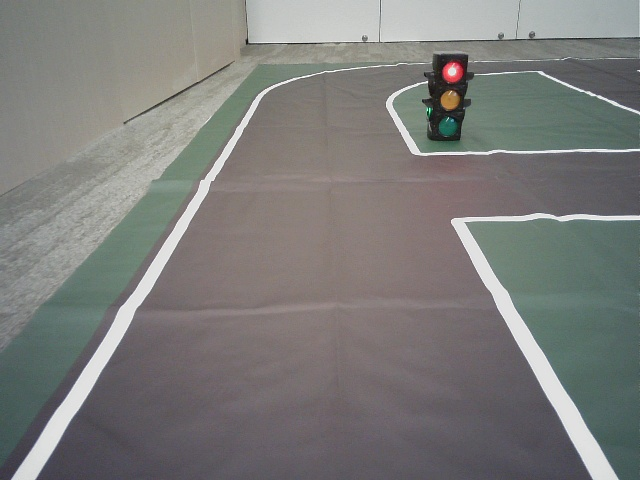red: (435, 56, 462, 137)
